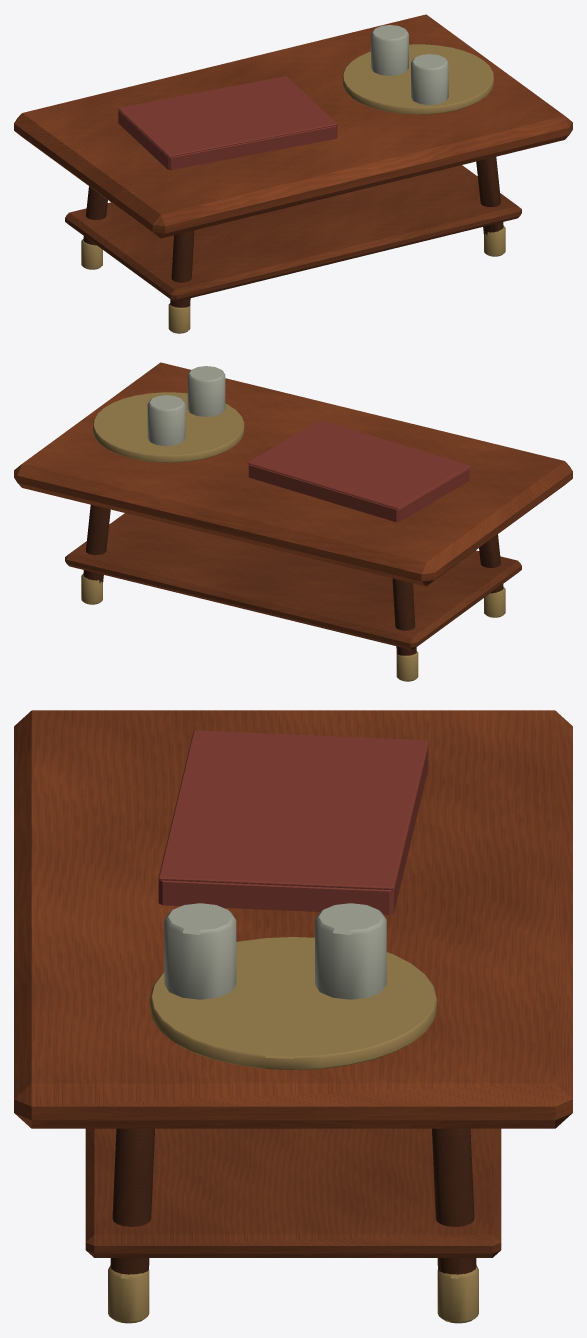
The model's file is coffee-table.glb.
3 views of the same model, one above another, from view 1: azimuth 30°, elevation 25°; view 2: azimuth 150°, elevation 25°; view 3: azimuth 270°, elevation 25° (orthographic). The views are drawn at different scales.
Parts seen in each view (by area): view 1: part::coffee-table/coffee-table-polished-walnut-001, part::coffee-table/coffee-table-lower-shelf-001, part::art-volume/art-volume-cover-001, part::whiskey-tray/whiskey-tray-001, part::art-volume/coffee-table-art-volume-001, part::whiskey-tray/cut-crystal-rocks-glass-002, part::whiskey-tray/cut-crystal-rocks-glass-001, part::coffee-table/coffee-table-tapered-leg-004, part::coffee-table/coffee-table-tapered-leg-002, part::coffee-table/coffee-table-tapered-leg-001, part::coffee-table/coffee-table-brass-ferrule-002, part::coffee-table/coffee-table-brass-ferrule-004 (+1 smaller); view 2: part::coffee-table/coffee-table-polished-walnut-001, part::coffee-table/coffee-table-lower-shelf-001, part::art-volume/art-volume-cover-001, part::whiskey-tray/whiskey-tray-001, part::art-volume/coffee-table-art-volume-001, part::whiskey-tray/cut-crystal-rocks-glass-001, part::whiskey-tray/cut-crystal-rocks-glass-002, part::coffee-table/coffee-table-tapered-leg-003, part::coffee-table/coffee-table-tapered-leg-001, part::coffee-table/coffee-table-tapered-leg-002, part::coffee-table/coffee-table-brass-ferrule-001, part::coffee-table/coffee-table-brass-ferrule-003 (+1 smaller); view 3: part::coffee-table/coffee-table-polished-walnut-001, part::coffee-table/coffee-table-lower-shelf-001, part::art-volume/art-volume-cover-001, part::whiskey-tray/whiskey-tray-001, part::whiskey-tray/cut-crystal-rocks-glass-002, part::art-volume/coffee-table-art-volume-001, part::whiskey-tray/cut-crystal-rocks-glass-001, part::coffee-table/coffee-table-tapered-leg-003, part::coffee-table/coffee-table-tapered-leg-004, part::coffee-table/coffee-table-brass-ferrule-003, part::coffee-table/coffee-table-brass-ferrule-004.
Boxes of the visible parts, <box> form: part::coffee-table/coffee-table-polished-walnut-001: <box>14,14,572,238</box>; part::coffee-table/coffee-table-lower-shelf-001: <box>65,165,521,301</box>; part::art-volume/art-volume-cover-001: <box>118,76,337,157</box>; part::whiskey-tray/whiskey-tray-001: <box>342,44,493,114</box>; part::art-volume/coffee-table-art-volume-001: <box>118,110,337,170</box>; part::whiskey-tray/cut-crystal-rocks-glass-002: <box>411,54,448,104</box>; part::whiskey-tray/cut-crystal-rocks-glass-001: <box>371,25,408,75</box>; part::coffee-table/coffee-table-tapered-leg-004: <box>476,157,503,235</box>; part::coffee-table/coffee-table-tapered-leg-002: <box>170,230,194,307</box>; part::coffee-table/coffee-table-tapered-leg-001: <box>83,186,107,245</box>; part::coffee-table/coffee-table-brass-ferrule-002: <box>168,303,190,333</box>; part::coffee-table/coffee-table-brass-ferrule-004: <box>484,226,505,256</box>; part::coffee-table/coffee-table-polished-walnut-001: <box>14,362,572,586</box>; part::coffee-table/coffee-table-lower-shelf-001: <box>65,513,521,649</box>; part::art-volume/art-volume-cover-001: <box>247,420,470,509</box>; part::whiskey-tray/whiskey-tray-001: <box>93,392,244,462</box>; part::art-volume/coffee-table-art-volume-001: <box>248,464,469,522</box>; part::whiskey-tray/cut-crystal-rocks-glass-001: <box>147,395,185,446</box>; part::whiskey-tray/cut-crystal-rocks-glass-002: <box>187,366,225,416</box>; part::coffee-table/coffee-table-tapered-leg-003: <box>83,505,110,583</box>; part::coffee-table/coffee-table-tapered-leg-001: <box>392,578,416,655</box>; part::coffee-table/coffee-table-tapered-leg-002: <box>479,534,503,593</box>; part::coffee-table/coffee-table-brass-ferrule-001: <box>396,651,418,681</box>; part::coffee-table/coffee-table-brass-ferrule-003: <box>81,574,102,604</box>; part::coffee-table/coffee-table-polished-walnut-001: <box>14,710,572,1128</box>; part::coffee-table/coffee-table-lower-shelf-001: <box>85,1128,501,1257</box>; part::art-volume/art-volume-cover-001: <box>158,730,428,890</box>; part::whiskey-tray/whiskey-tray-001: <box>150,937,436,1070</box>; part::whiskey-tray/cut-crystal-rocks-glass-002: <box>164,903,236,999</box>; part::art-volume/coffee-table-art-volume-001: <box>158,746,428,914</box>; part::whiskey-tray/cut-crystal-rocks-glass-001: <box>315,903,386,999</box>; part::coffee-table/coffee-table-tapered-leg-003: <box>432,1128,476,1274</box>; part::coffee-table/coffee-table-tapered-leg-004: <box>110,1128,154,1274</box>; part::coffee-table/coffee-table-brass-ferrule-003: <box>437,1266,478,1323</box>; part::coffee-table/coffee-table-brass-ferrule-004: <box>108,1266,149,1323</box>.
Size of the model in its own units: 1.28 by 0.5495 by 0.78.
8 materials, 3 textured.
